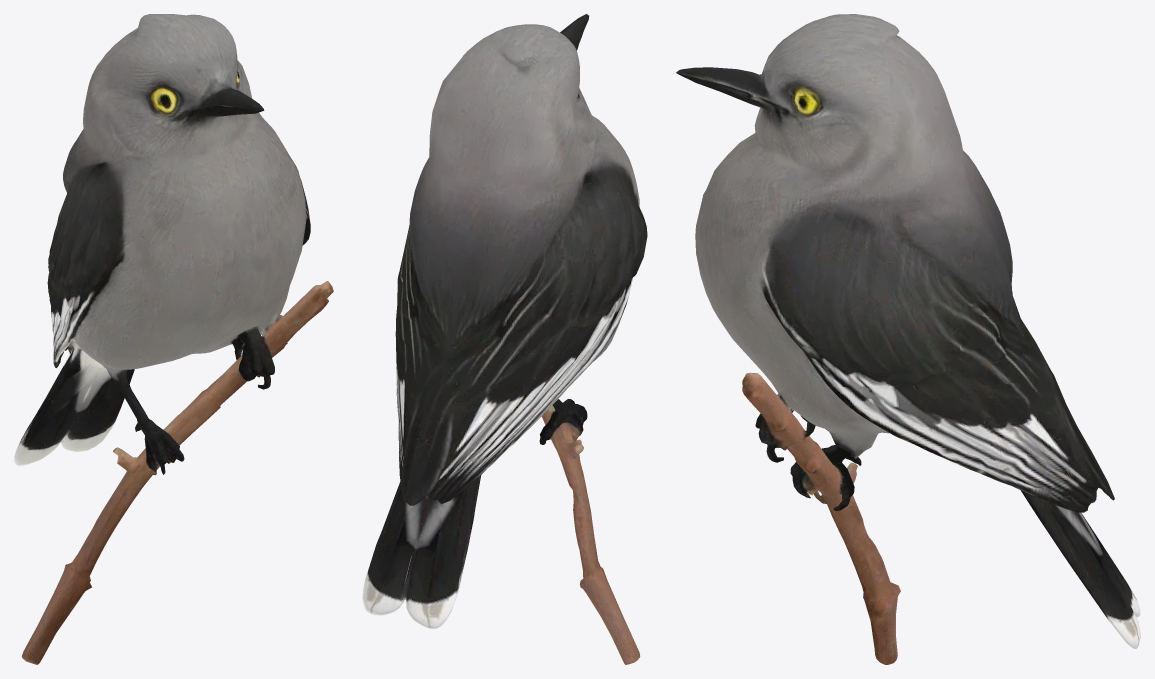
The model's file is bird-koekoek.glb.
The picture shows the model from 3 angles, left to right: view 1: azimuth 30°, elevation 25°; view 2: azimuth 150°, elevation 25°; view 3: azimuth 270°, elevation 25°; orthographic projection. The views are drawn at different scales.
Size of the model in its own units: 0.7953 by 1.91 by 1.13.
1 material, 1 textured.
